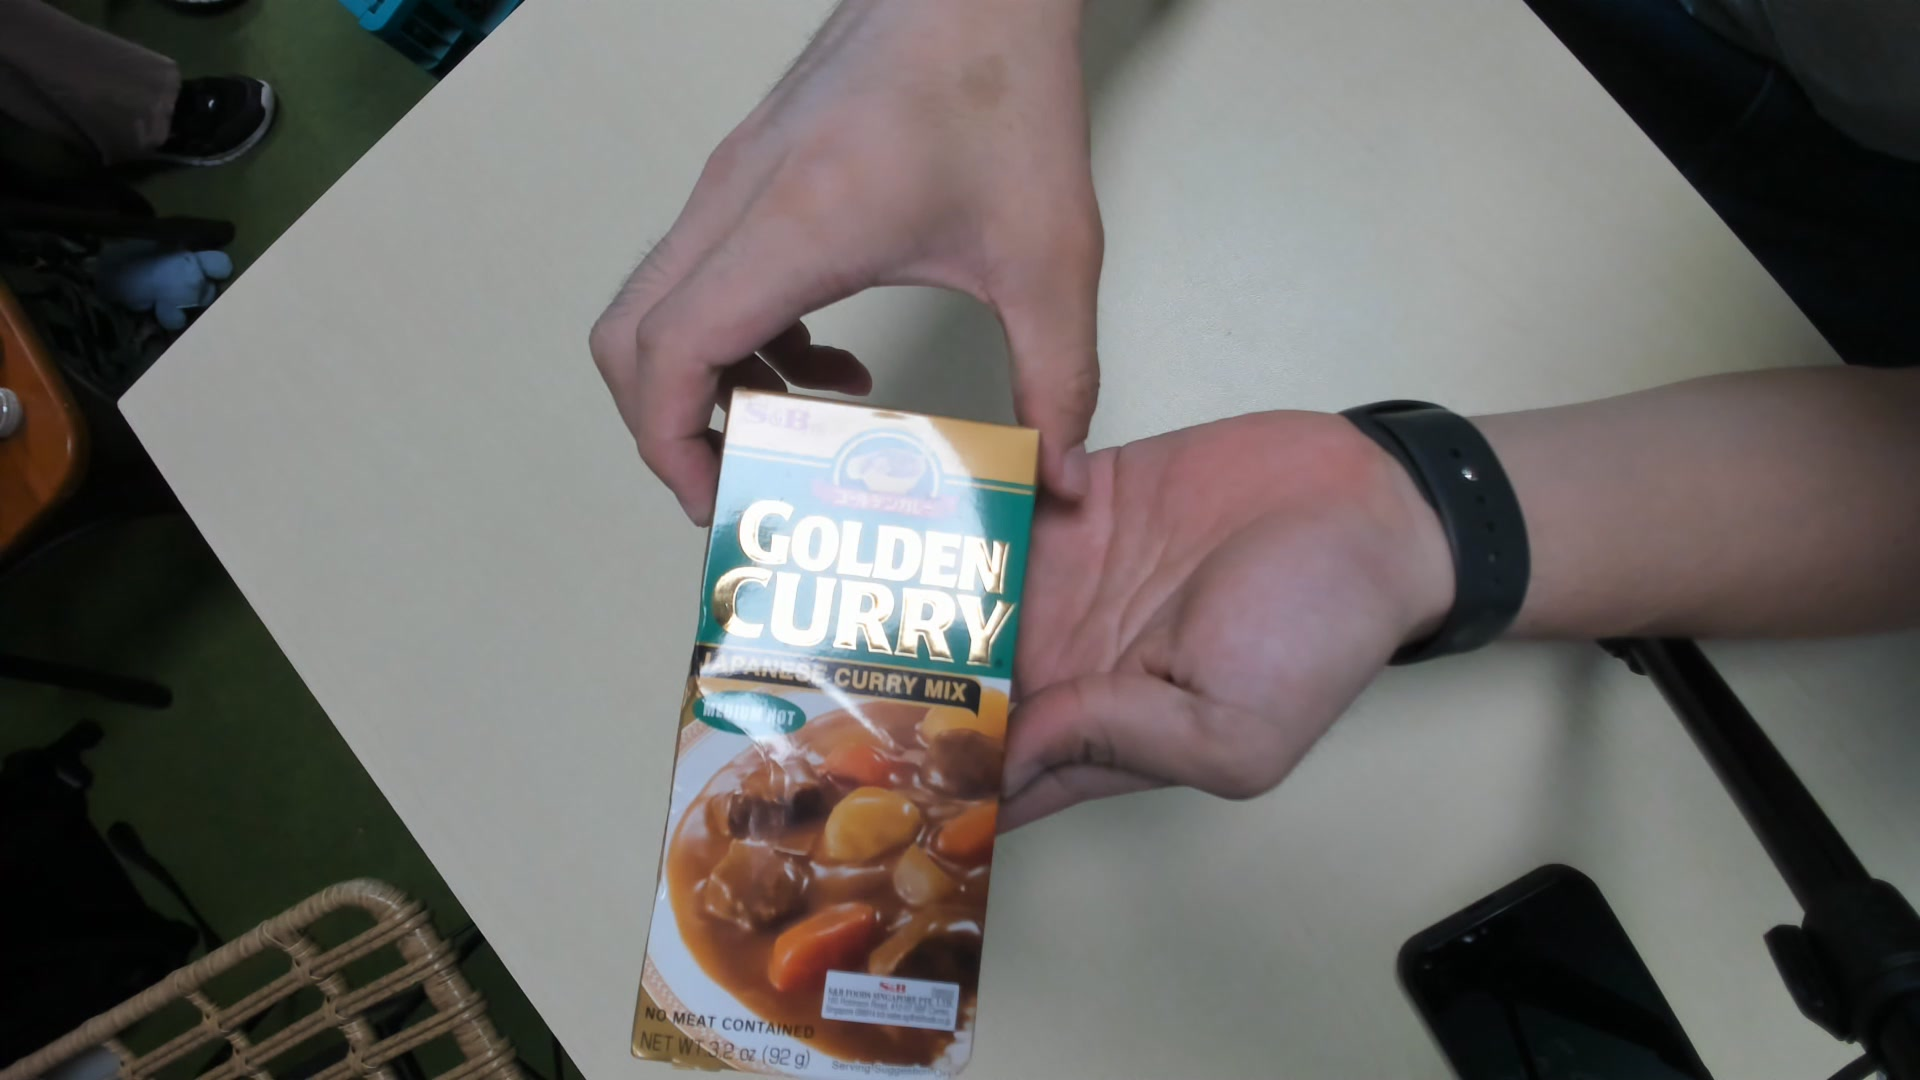OtherSauceDressing_0-99g_NonHalal_NonHealthy: (628, 388, 1044, 1080)
